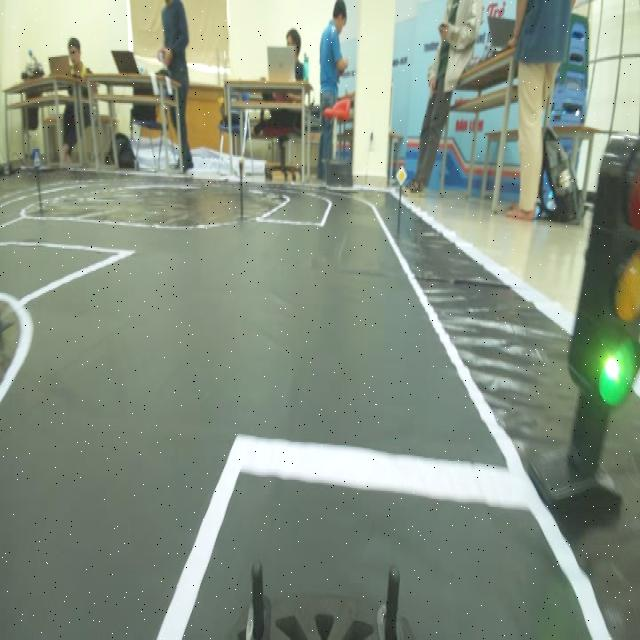trafficlight: (569, 110, 640, 457)
